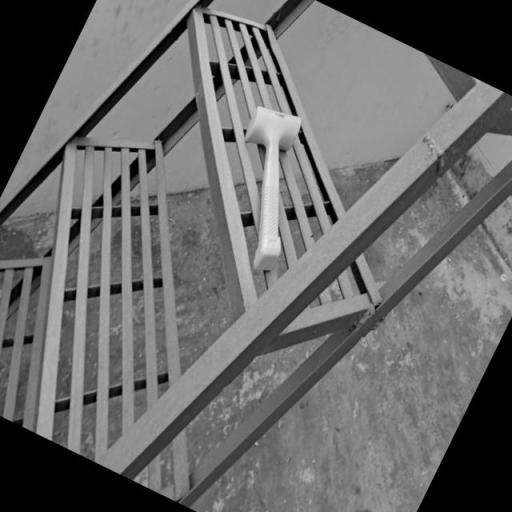mallet: (194, 100, 336, 274), (195, 101, 336, 273)
